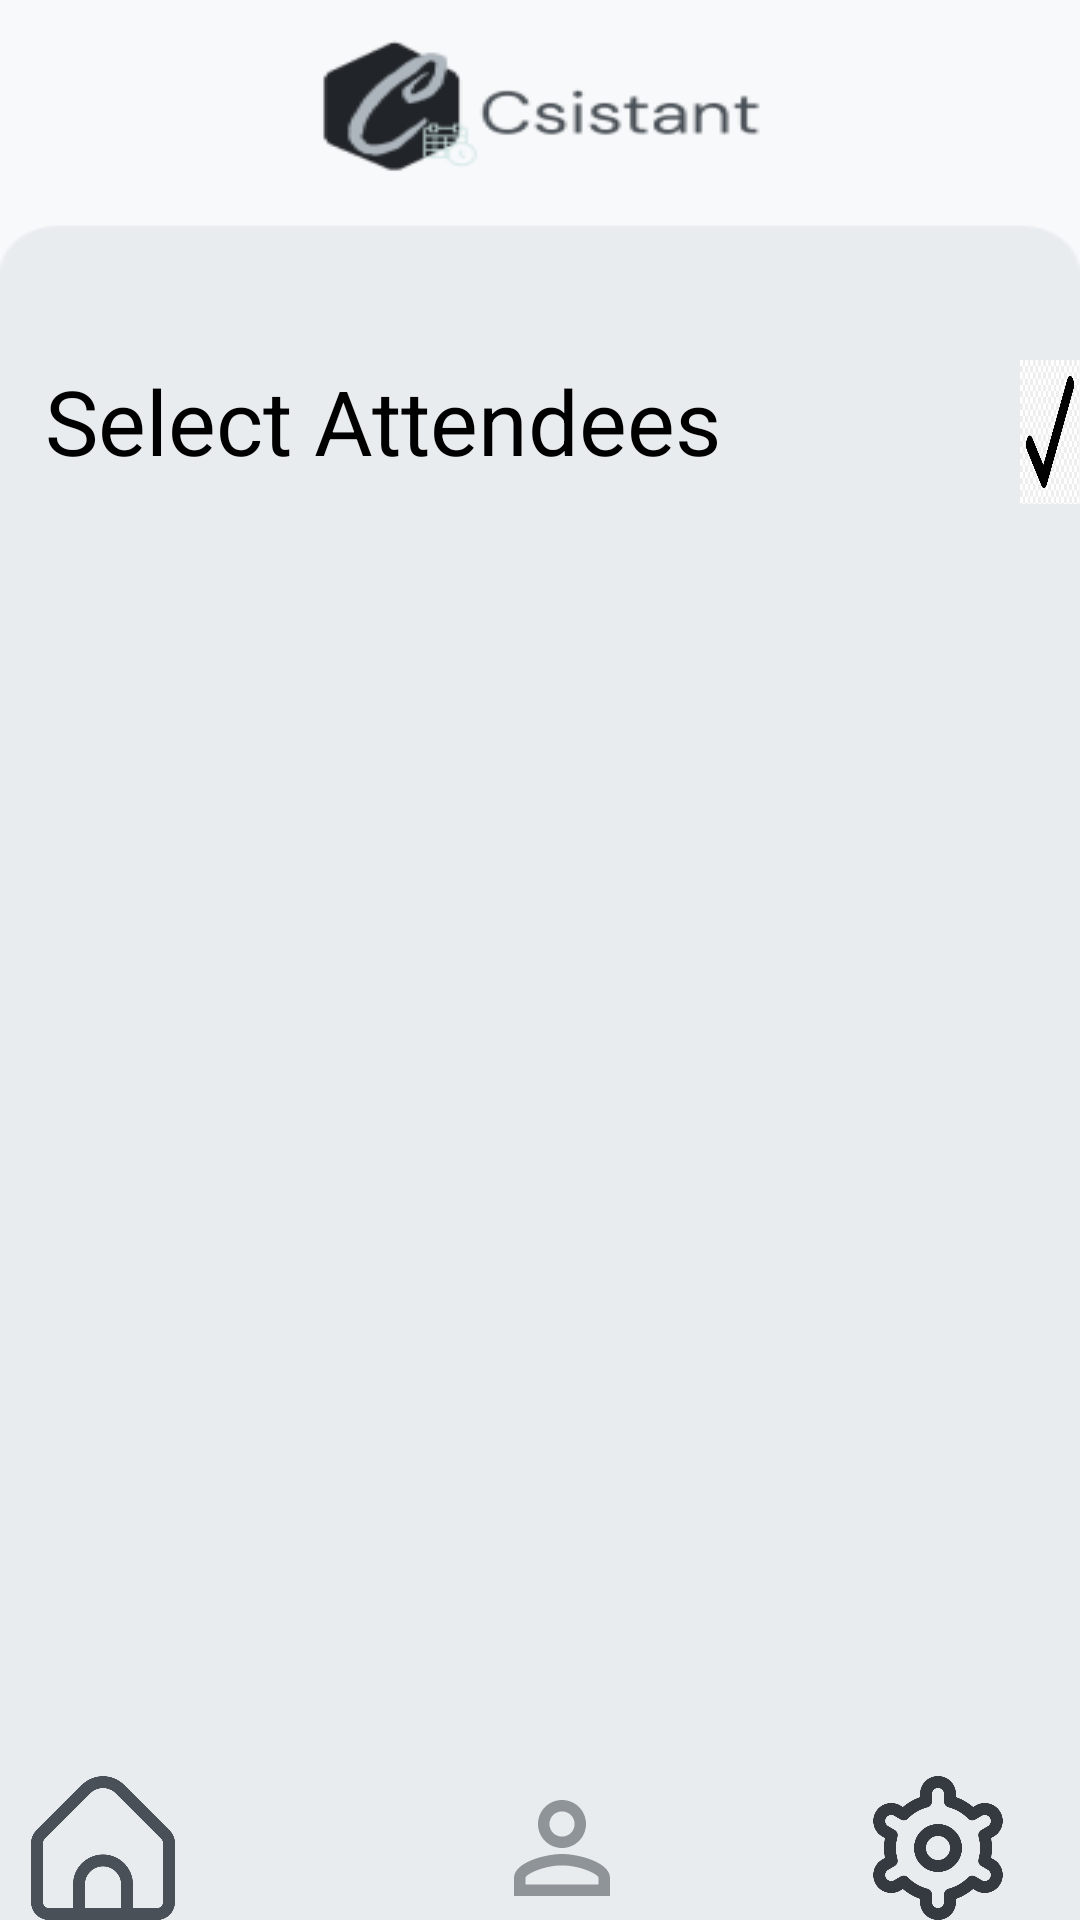

Icon bounding boxes for this 1080w x 1920h phone screenshot, format (x1, y1, x2, y2):
home: (31, 1776, 175, 1920)
settings: (873, 1776, 1003, 1920)
tickmark: (1026, 376, 1074, 488)
user: (514, 1800, 610, 1896)
